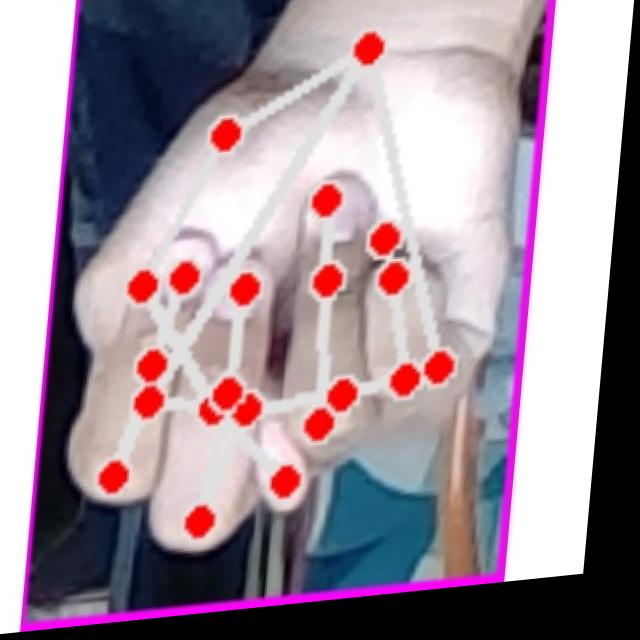N: (59, 5, 534, 582)
